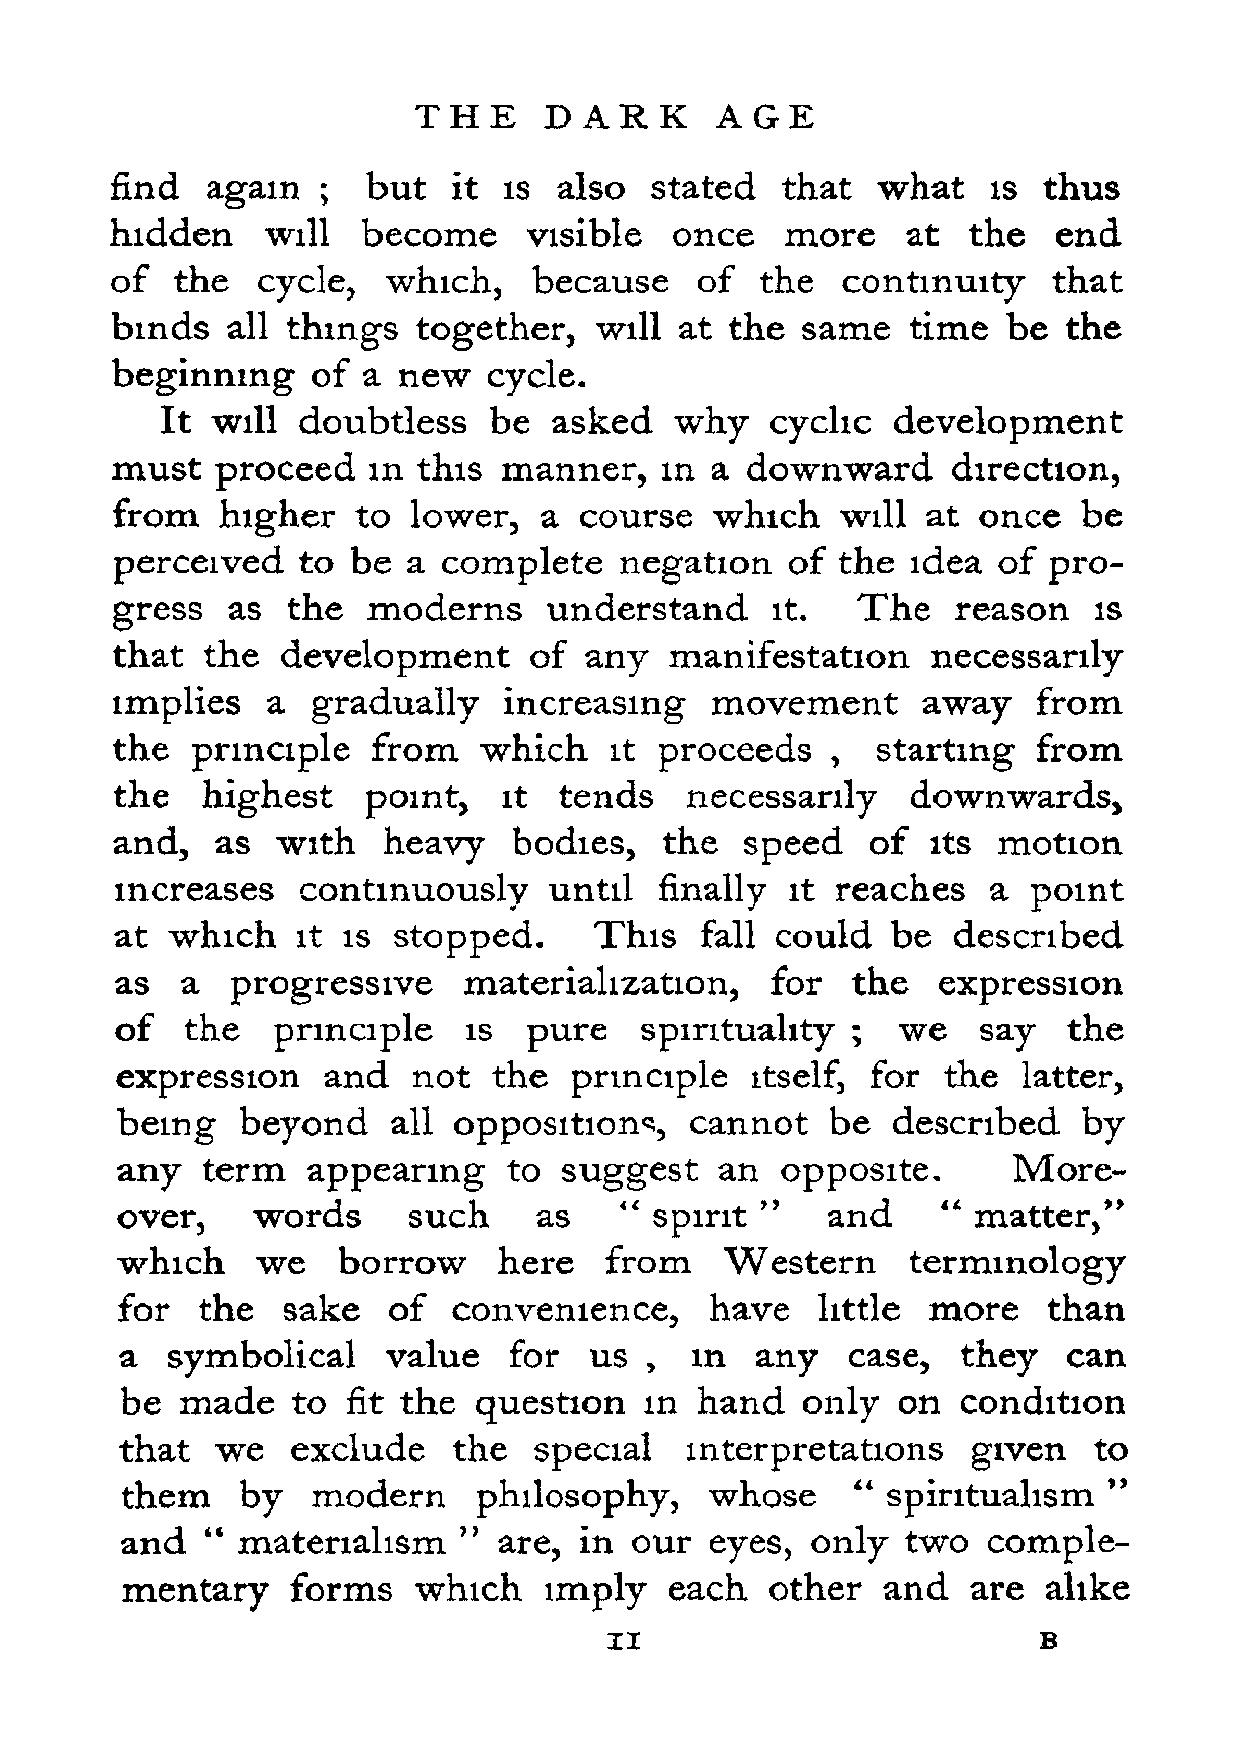chapter: (412, 95, 815, 134)
content: (102, 169, 1134, 1614)
content_pagenumber: (600, 1628, 645, 1655)
